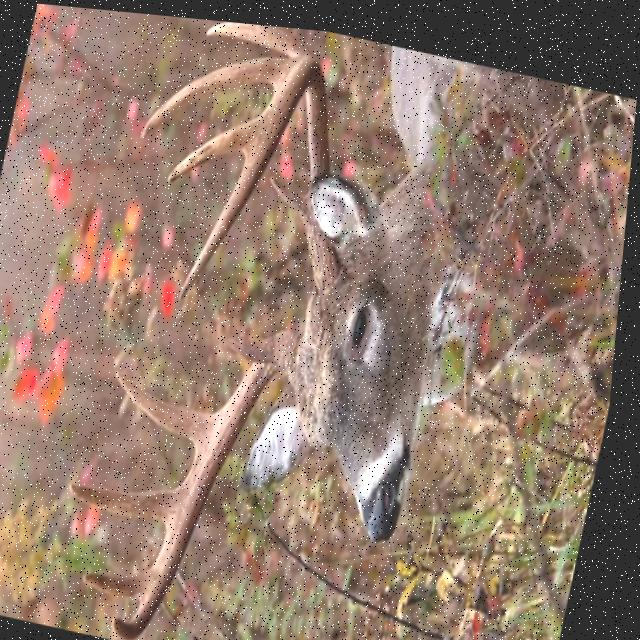L-F: (124, 322, 309, 638)
L-G1: (226, 324, 274, 357)
L-G2: (121, 358, 227, 446)
L-G3: (76, 477, 192, 524)
L-G4: (91, 561, 162, 597)
R-G1: (272, 164, 312, 223)
R-G2: (205, 16, 308, 49)
R-G3: (142, 49, 295, 136)
R-G4: (168, 105, 264, 180)
